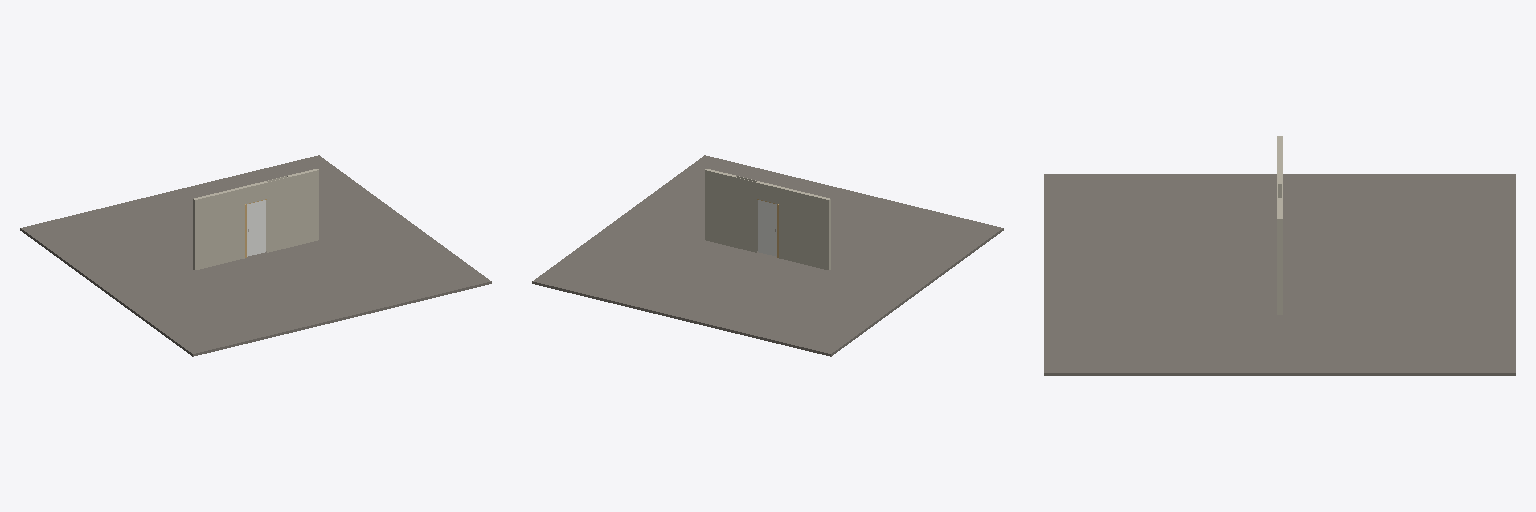
URDF robot description (db0087_sliding_single_minimal):
<?xml version="1.0" ?>
<robot xmlns:doorbench="https://github.com/adamraudonis/DoorBench/schema/urdf-ext" name="db0087_sliding_single_minimal">
  <link name="world_env">
    <visual name="floor_vis">
      <origin xyz="0 0 -0.05" rpy="0 0 0"/>
      <geometry>
        <box size="12 12 0.1"/>
      </geometry>
      <material name="mat_floor"/>
    </visual>
    <collision name="floor_col">
      <origin xyz="0 0 -0.05" rpy="0 0 0"/>
      <geometry>
        <box size="12 12 0.1"/>
      </geometry>
    </collision>
    <visual name="wall_left_vis">
      <origin xyz="-1.49775 0 1.35" rpy="0 0 0"/>
      <geometry>
        <box size="2.0045 0.145 2.7"/>
      </geometry>
      <material name="mat_wall"/>
    </visual>
    <collision name="wall_left_col">
      <origin xyz="-1.49775 0 1.35" rpy="0 0 0"/>
      <geometry>
        <box size="2.0045 0.145 2.7"/>
      </geometry>
    </collision>
    <visual name="wall_header_vis">
      <origin xyz="-0.03 0 2.3855" rpy="0 0 0"/>
      <geometry>
        <box size="0.931 0.145 0.629"/>
      </geometry>
      <material name="mat_wall"/>
    </visual>
    <collision name="wall_header_col">
      <origin xyz="-0.03 0 2.3855" rpy="0 0 0"/>
      <geometry>
        <box size="0.931 0.145 0.629"/>
      </geometry>
    </collision>
    <visual name="pocket_skin_n_vis">
      <origin xyz="0.848 -0.0645 1.35" rpy="0 0 0"/>
      <geometry>
        <box size="0.863 0.016 2.7"/>
      </geometry>
      <material name="mat_wall"/>
    </visual>
    <collision name="pocket_skin_n_col">
      <origin xyz="0.848 -0.0645 1.35" rpy="0 0 0"/>
      <geometry>
        <box size="0.863 0.016 2.7"/>
      </geometry>
    </collision>
    <visual name="pocket_skin_p_vis">
      <origin xyz="0.848 0.0645 1.35" rpy="0 0 0"/>
      <geometry>
        <box size="0.863 0.016 2.7"/>
      </geometry>
      <material name="mat_wall"/>
    </visual>
    <collision name="pocket_skin_p_col">
      <origin xyz="0.848 0.0645 1.35" rpy="0 0 0"/>
      <geometry>
        <box size="0.863 0.016 2.7"/>
      </geometry>
    </collision>
    <visual name="wall_pocket_far_vis">
      <origin xyz="1.88975 0 1.35" rpy="0 0 0"/>
      <geometry>
        <box size="1.2205 0.145 2.7"/>
      </geometry>
      <material name="mat_wall"/>
    </visual>
    <collision name="wall_pocket_far_col">
      <origin xyz="1.88975 0 1.35" rpy="0 0 0"/>
      <geometry>
        <box size="1.2205 0.145 2.7"/>
      </geometry>
    </collision>
    <visual name="jamb_head_vis">
      <origin xyz="0 0 2.0615" rpy="0 0 0"/>
      <geometry>
        <box size="0.871 0.145 0.019"/>
      </geometry>
      <material name="mat_frame"/>
    </visual>
    <collision name="jamb_head_col">
      <origin xyz="0 0 2.0615" rpy="0 0 0"/>
      <geometry>
        <box size="0.871 0.145 0.019"/>
      </geometry>
    </collision>
    <visual name="jamb_latch_0_vis">
      <origin xyz="-0.456 0 1.026" rpy="0 0 0"/>
      <geometry>
        <box size="0.079 0.145 2.052"/>
      </geometry>
      <material name="mat_frame"/>
    </visual>
    <collision name="jamb_latch_0_col">
      <origin xyz="-0.456 0 1.026" rpy="0 0 0"/>
      <geometry>
        <box size="0.079 0.145 2.052"/>
      </geometry>
    </collision>
  </link>
  <link name="leaf">
    <inertial>
      <origin xyz="-0.000073 0 1.027994" rpy="0 0 0"/>
      <mass value="43.56542"/>
      <inertia ixx="14.991231912" ixy="0" ixz="-0.000088988" iyy="17.386853138" iyz="0" izz="2.404520291"/>
    </inertial>
    <visual name="leaf_slab_vis">
      <origin xyz="0 0 1.028" rpy="0 0 0"/>
      <geometry>
        <box size="0.813 0.035 2.032"/>
      </geometry>
      <material name="mat_leaf"/>
    </visual>
    <collision name="leaf_slab_col">
      <origin xyz="0 0 1.028" rpy="0 0 0"/>
      <geometry>
        <box size="0.813 0.035 2.032"/>
      </geometry>
    </collision>
    <visual name="leaf_pull_n_vis">
      <origin xyz="-0.3165 -0.018 1" rpy="0 0 0"/>
      <geometry>
        <box size="0.05 0.001 0.1"/>
      </geometry>
      <material name="mat_op_nickel_satin"/>
    </visual>
    <visual name="leaf_pull_p_vis">
      <origin xyz="-0.3165 0.018 1" rpy="0 0 0"/>
      <geometry>
        <box size="0.05 0.001 0.1"/>
      </geometry>
      <material name="mat_op_nickel_satin"/>
    </visual>
  </link>
  <joint name="leaf_slide" type="prismatic">
    <origin xyz="0 0 0" rpy="0 0 0"/>
    <parent link="world_env"/>
    <child link="leaf"/>
    <axis xyz="1 0 0"/>
    <limit lower="0" upper="0.772" effort="5000" velocity="10"/>
    <dynamics damping="4.178271" friction="25.63385"/>
  </joint>
  <material name="mat_floor">
    <color rgba="0.55 0.53 0.5 1"/>
  </material>
  <material name="mat_frame">
    <color rgba="0.82 0.7 0.5 1"/>
  </material>
  <material name="mat_leaf">
    <color rgba="0.93 0.93 0.91 1"/>
  </material>
  <material name="mat_op_nickel_satin">
    <color rgba="0.72 0.7 0.66 1"/>
  </material>
  <material name="mat_wall">
    <color rgba="0.78 0.76 0.7 1"/>
  </material>
</robot>

--- Facts derived from the render (not from the file) ---
The picture shows the robot from 3 angles, left to right: view 1: azimuth 30°, elevation 25°; view 2: azimuth 150°, elevation 25°; view 3: azimuth 270°, elevation 25°; orthographic projection.
Robot: db0087_sliding_single_minimal — 2 links, 1 joints (1 prismatic); root link world_env; default pose: every joint at zero.
Visible links, largest first — view 1: world_env, leaf; view 2: world_env, leaf; view 3: world_env.
Boxes of the visible links, box(x1,y1,x2,y2) form: world_env: box(20, 155, 491, 356); leaf: box(247, 200, 265, 256); world_env: box(532, 155, 1003, 356); leaf: box(758, 200, 776, 256); world_env: box(1044, 136, 1515, 375).
Bounding box of the posed robot: 12 × 12 × 2.8 m (x, y, z).
Geometry: primitives only (box / cylinder / sphere), no mesh files.
